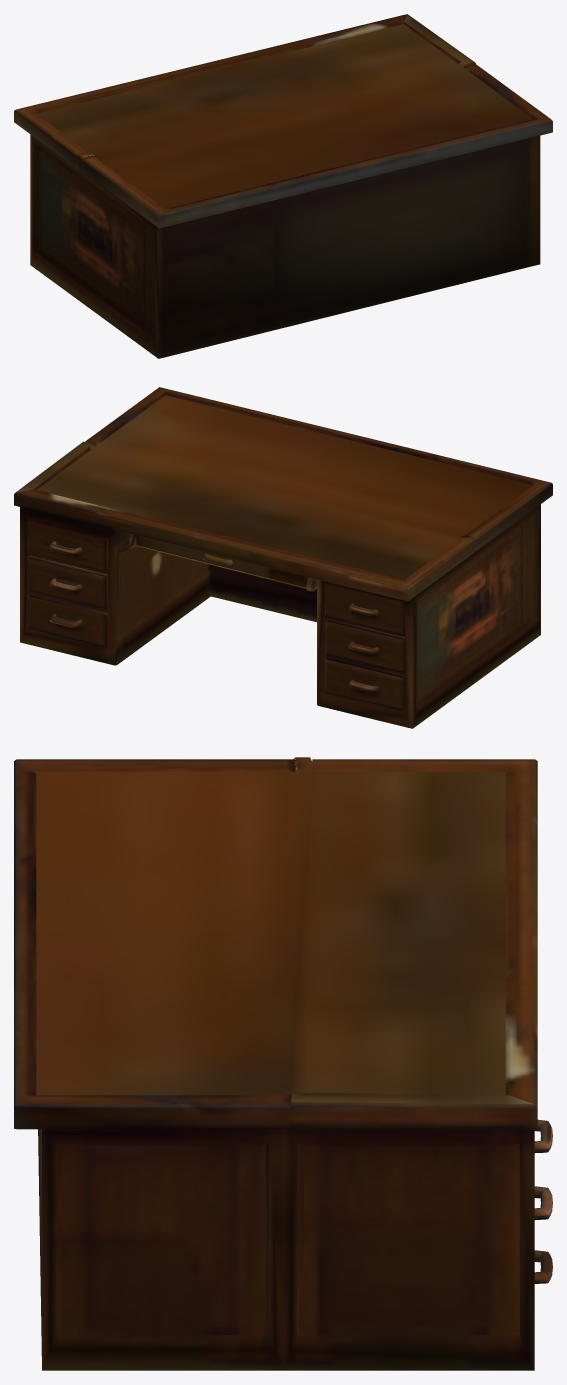
The model's file is OparetionRoom_AI_Prop.029.fbx.
3 views of the same model, one above another, from view 1: azimuth 30°, elevation 25°; view 2: azimuth 150°, elevation 25°; view 3: azimuth 270°, elevation 25° (orthographic). The views are drawn at different scales.
Parts seen in each view (by area): view 1: OparetionRoom_AI_Prop.029; view 2: OparetionRoom_AI_Prop.029; view 3: OparetionRoom_AI_Prop.029.
Boxes of the visible parts, x1,y1,x2,y2 form: OparetionRoom_AI_Prop.029: [14, 14, 552, 358]; OparetionRoom_AI_Prop.029: [14, 387, 552, 728]; OparetionRoom_AI_Prop.029: [14, 757, 552, 1370].
Bounding box in the file's own units: 299 × 109 × 196.
